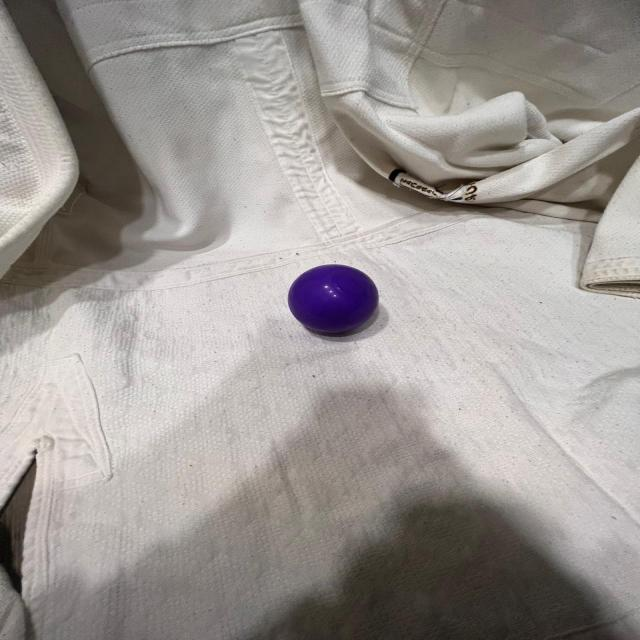ball: (284, 262, 382, 338)
